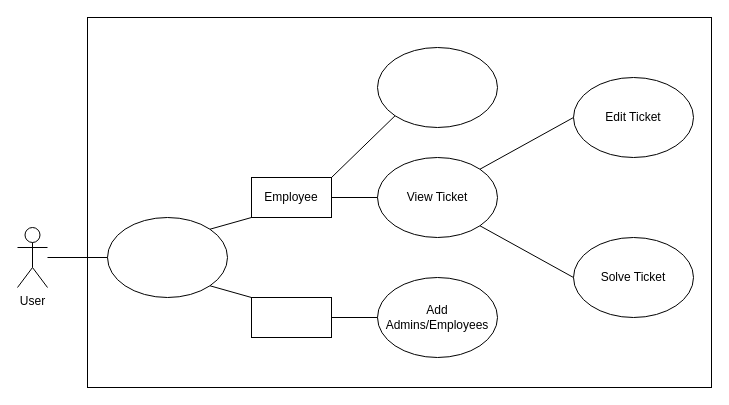
Some shapes in this 729 by 405 pixel diagram are drawn without their labels. Each missing label, with the centre of its shape:
"Admin" belongs at (x=291, y=317).
"Create Ticket" belongs at (x=437, y=87).
"Login/Change Account" belongs at (x=167, y=257).
